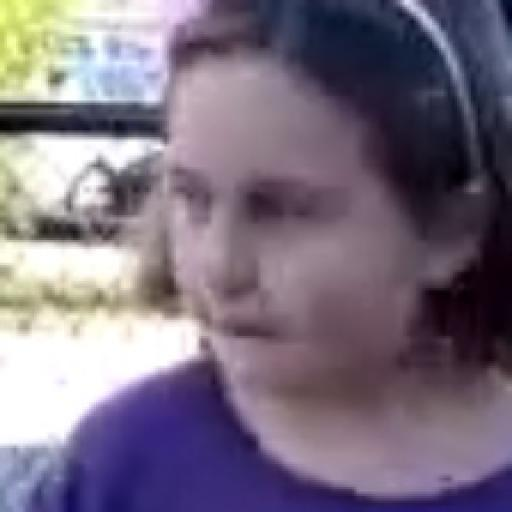Autism: (77, 13, 509, 512)
